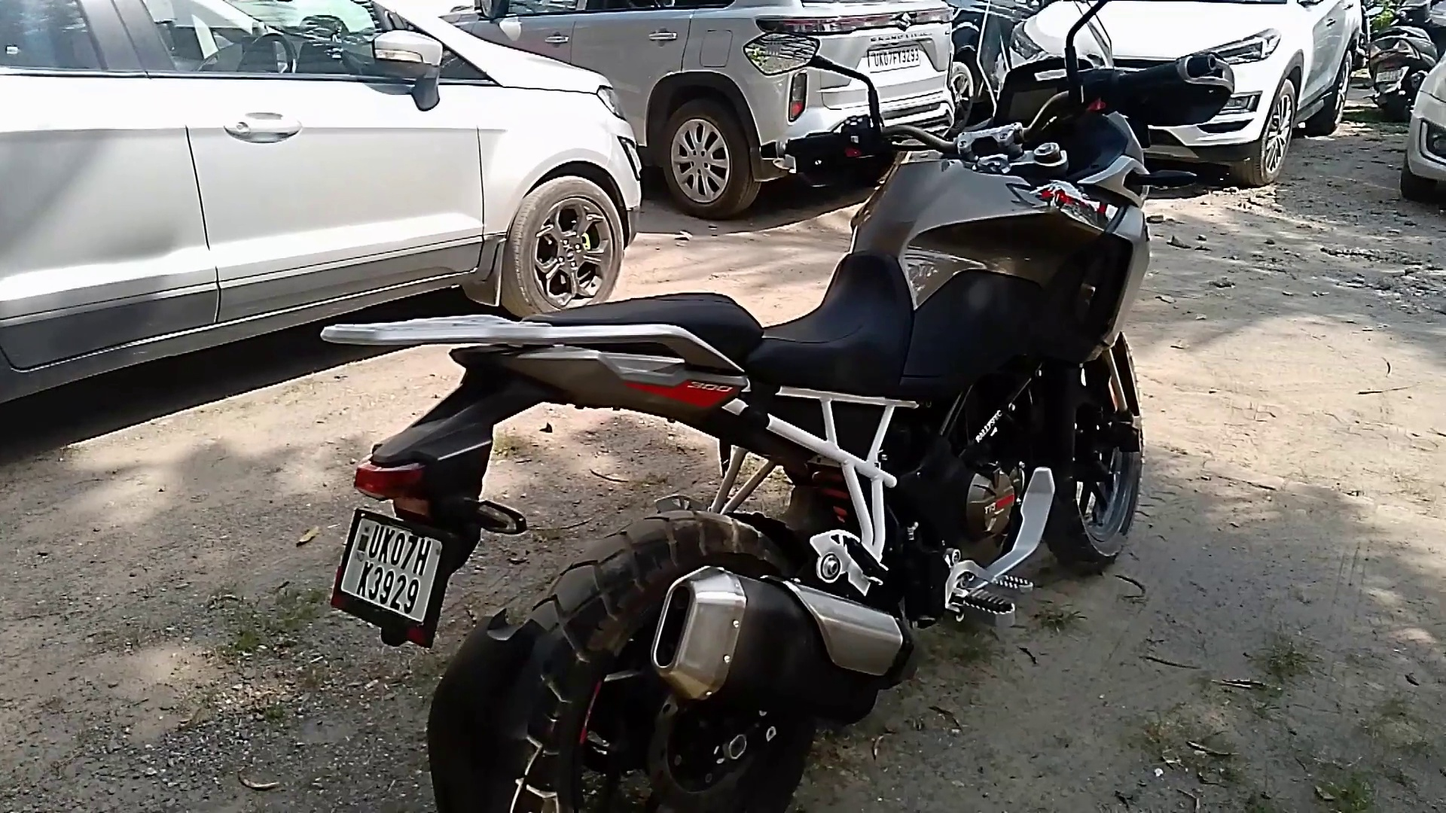bike-engine: (958, 460, 1029, 581)
